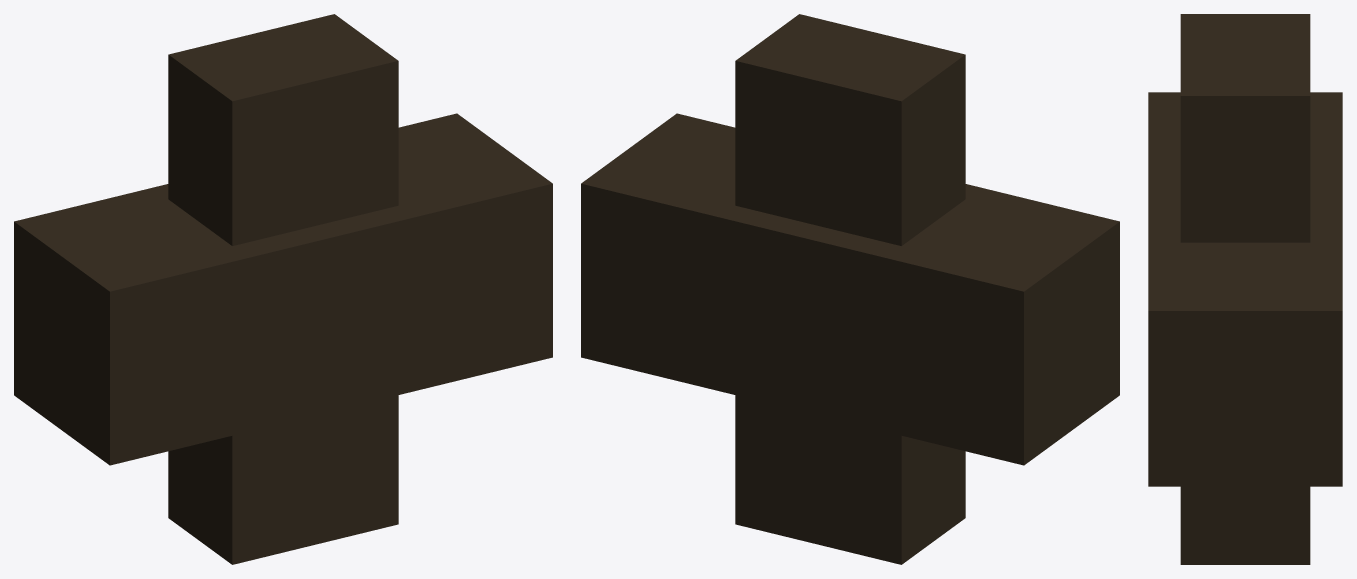
Rendered from nyc_subway_track_pole_2.obj.
The picture shows the model from 3 angles, left to right: view 1: azimuth 30°, elevation 25°; view 2: azimuth 150°, elevation 25°; view 3: azimuth 270°, elevation 25°; orthographic projection.
Parts seen in each view (by area): view 1: cube; view 2: cube; view 3: cube.
Part boxes in pixels (box(x1,y1,x2,y2)): cube: box(14, 14, 552, 564); cube: box(581, 14, 1119, 564); cube: box(1148, 14, 1342, 564).
Bounding box in the file's own units: 1 × 1 × 0.375.
Materials: 1 (1 with a texture image).
